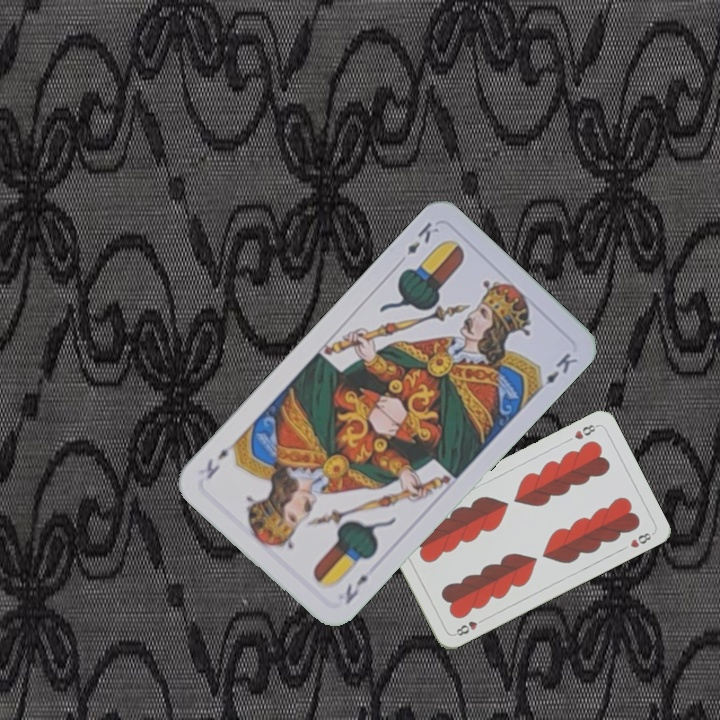EK: (402, 218, 442, 258), (341, 570, 371, 607)
H8: (450, 614, 488, 639), (570, 420, 600, 442)
